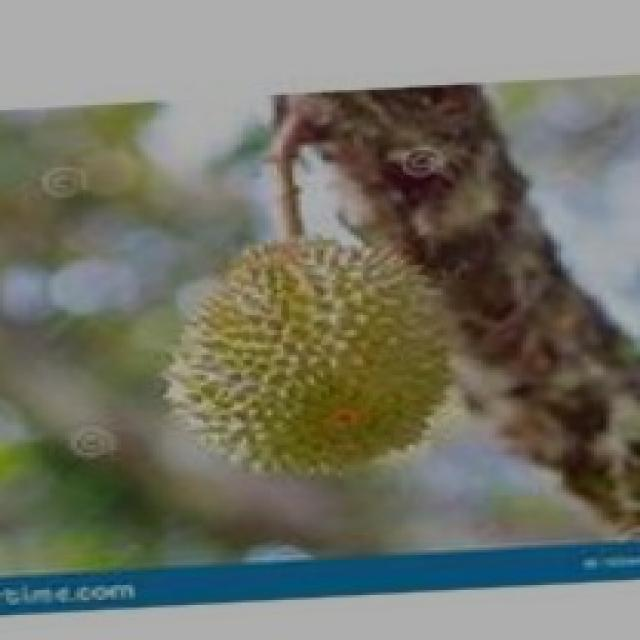fruit: (123, 192, 489, 530)
